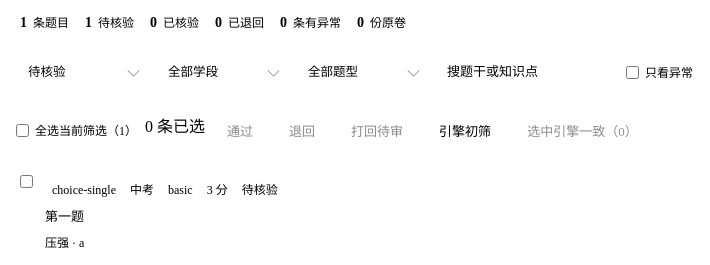
it: AdminContentTab › disables the verdict buttons until something is selected
This screenshot has width=710, height=265.
Expected: the text "第一题" is shown, x1=45 y1=209 x2=84 y2=224
Expected: the button "通过" is disabled, x1=213 y1=113 x2=267 y2=147
Step 1. Click the checkbox labelled "全选当前筛选（1）" → (22, 130), box x1=16 y1=124 x2=29 y2=136
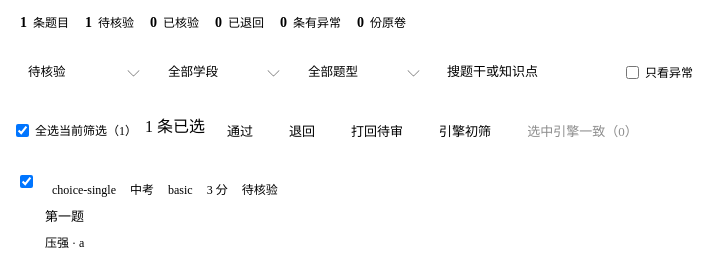
Expected: the button "通过" is enabled, x1=213 y1=113 x2=267 y2=147
Expected: the button "退回" is enabled, x1=275 y1=113 x2=329 y2=147
Expected: the button "打回待审" is enabled, x1=337 y1=113 x2=417 y2=147
